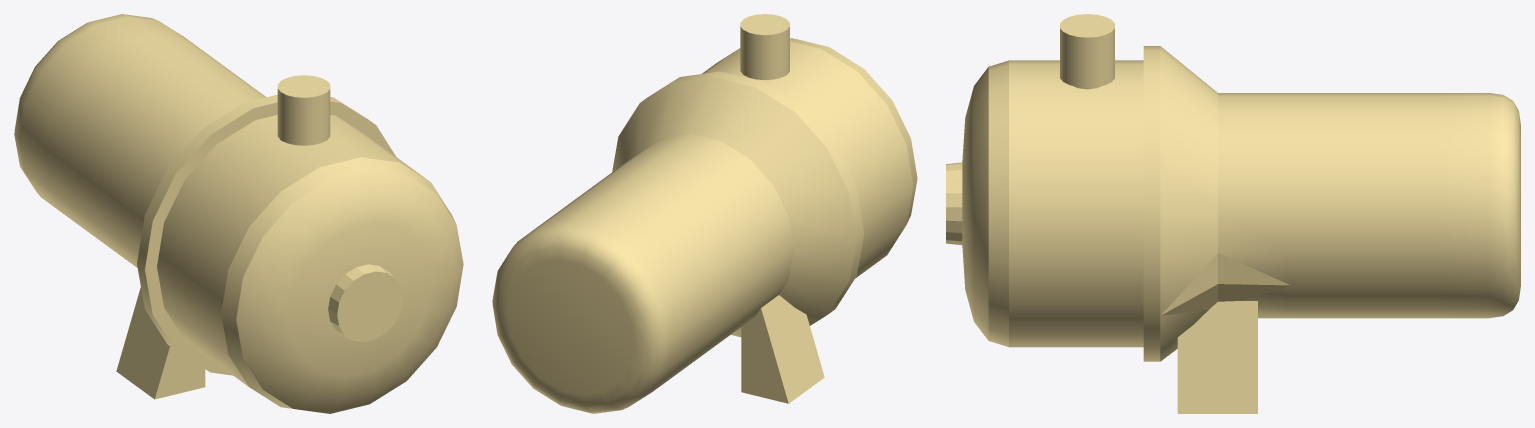
The model's file is BOMBA.gltf.
The picture shows the model from 3 angles, left to right: view 1: azimuth 30°, elevation 25°; view 2: azimuth 150°, elevation 25°; view 3: azimuth 270°, elevation 25°; orthographic projection. The views are drawn at different scales.
Parts seen in each view (by area): view 1: Cylinder001; view 2: Cylinder001; view 3: Cylinder001.
Part boxes in pixels (x1,y1,x2,y2): Cylinder001: [14, 14, 463, 413]; Cylinder001: [492, 14, 917, 413]; Cylinder001: [946, 14, 1520, 413].
Size of the model in its own units: 0.196 by 0.2276 by 0.3552.
